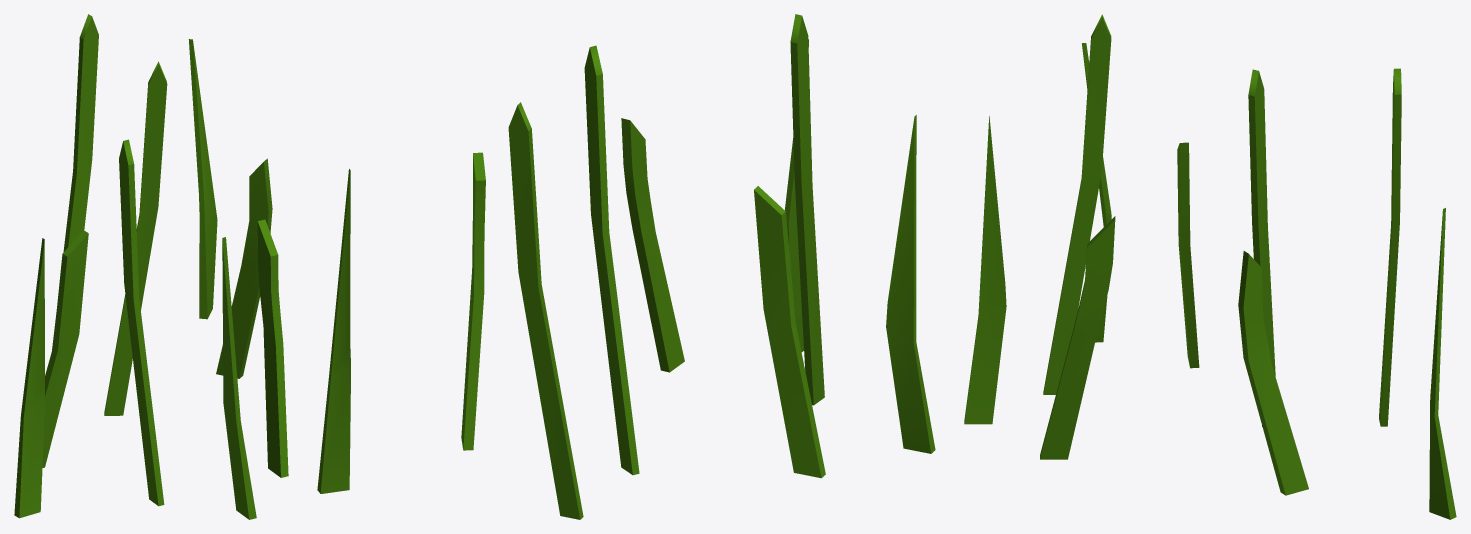
Rendered from Grass_Clump.fbx.
The picture shows the model from 3 angles, left to right: view 1: azimuth 30°, elevation 25°; view 2: azimuth 150°, elevation 25°; view 3: azimuth 270°, elevation 25°; orthographic projection. The views are drawn at different scales.
Visible parts, largest first — view 1: pCube10; view 2: pCube10; view 3: pCube10.
Part boxes in pixels (<box>): pCube10: <box>14,14,288,519</box>; pCube10: <box>317,14,935,519</box>; pCube10: <box>964,14,1456,519</box>.
Bounding box in the file's own units: 187 × 172 × 205.
